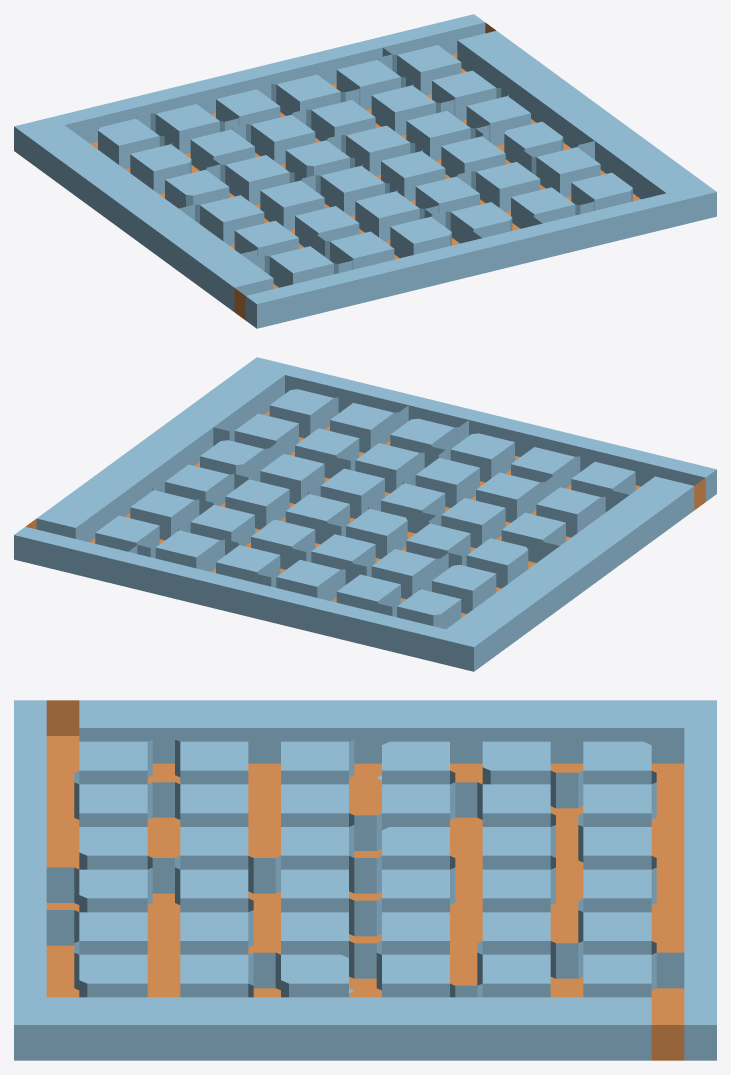
File: mazev11b.dae
The picture shows the model from 3 angles, top to bottom: view 1: azimuth 30°, elevation 25°; view 2: azimuth 150°, elevation 25°; view 3: azimuth 270°, elevation 25°; orthographic projection. The views are drawn at different scales.
Parts seen in each view (by area): view 1: 平面; view 2: 平面; view 3: 平面.
Part boxes in pixels (bbox=[...]): 平面: bbox=[14, 14, 716, 328]; 平面: bbox=[14, 357, 716, 671]; 平面: bbox=[14, 700, 716, 1060].
Size of the model in its own units: 29.35 by 26.85 by 1.5.
